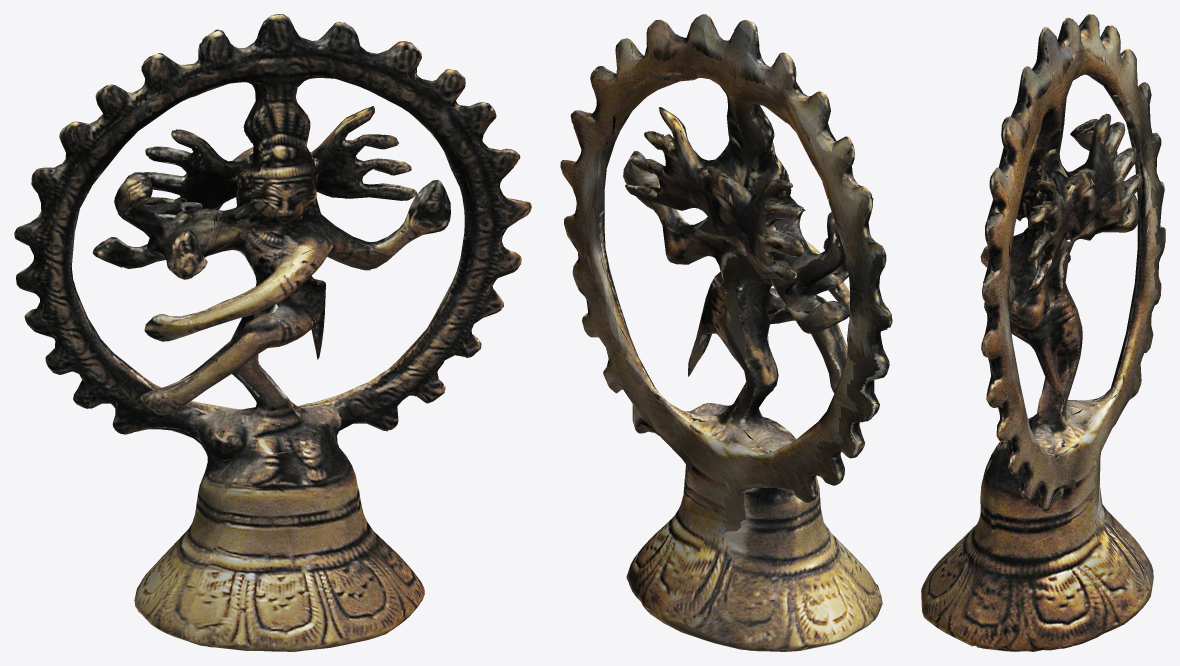
The model's file is Museum.unity_1.obj.
3 views of the same model, side by side, from view 1: azimuth 30°, elevation 25°; view 2: azimuth 150°, elevation 25°; view 3: azimuth 270°, elevation 25° (orthographic). The views are drawn at different scales.
Parts seen in each view (by area): view 1: ORITGT01; view 2: ORITGT01; view 3: ORITGT01.
Part boxes in pixels (<box>): ORITGT01: <box>14,14,531,651</box>; ORITGT01: <box>560,14,892,651</box>; ORITGT01: <box>921,14,1165,651</box>.
Bounding box in the file's own units: 12.36 × 16.25 × 6.35.
1 material, 1 textured.
